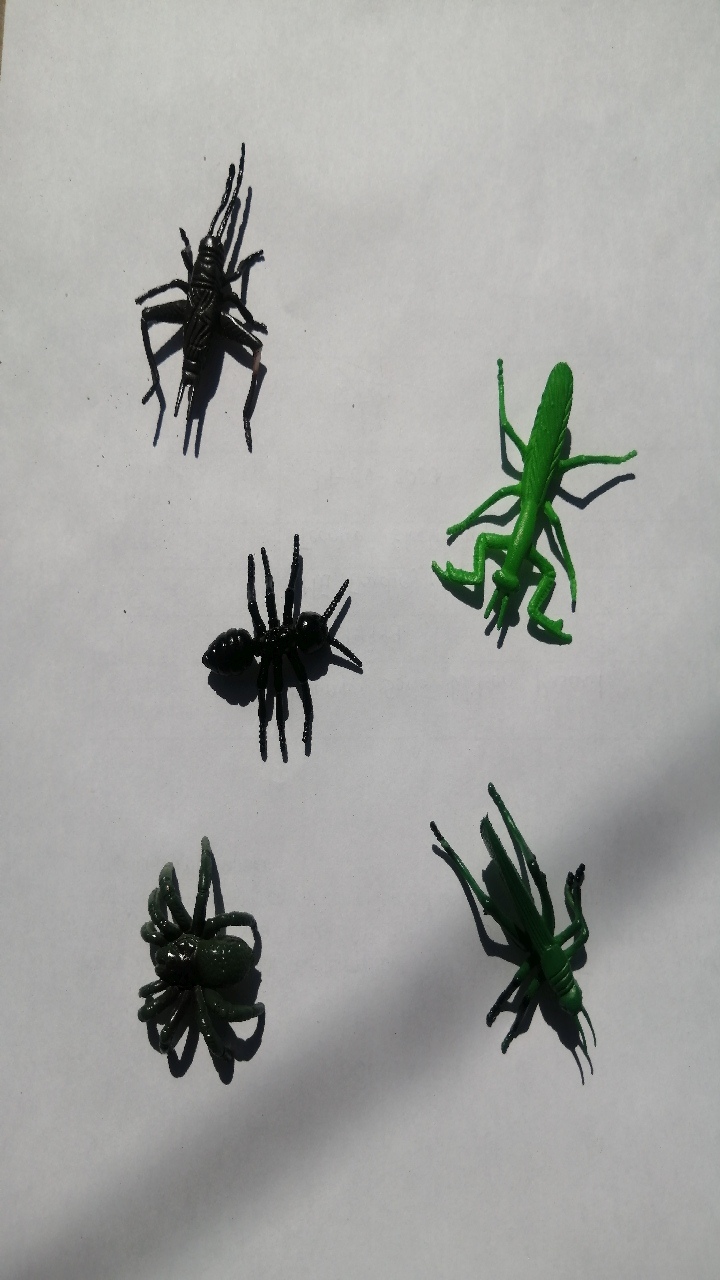intruso: (377, 745, 638, 1131), (435, 302, 660, 659), (115, 102, 309, 460), (166, 502, 380, 785), (111, 820, 283, 1099)
